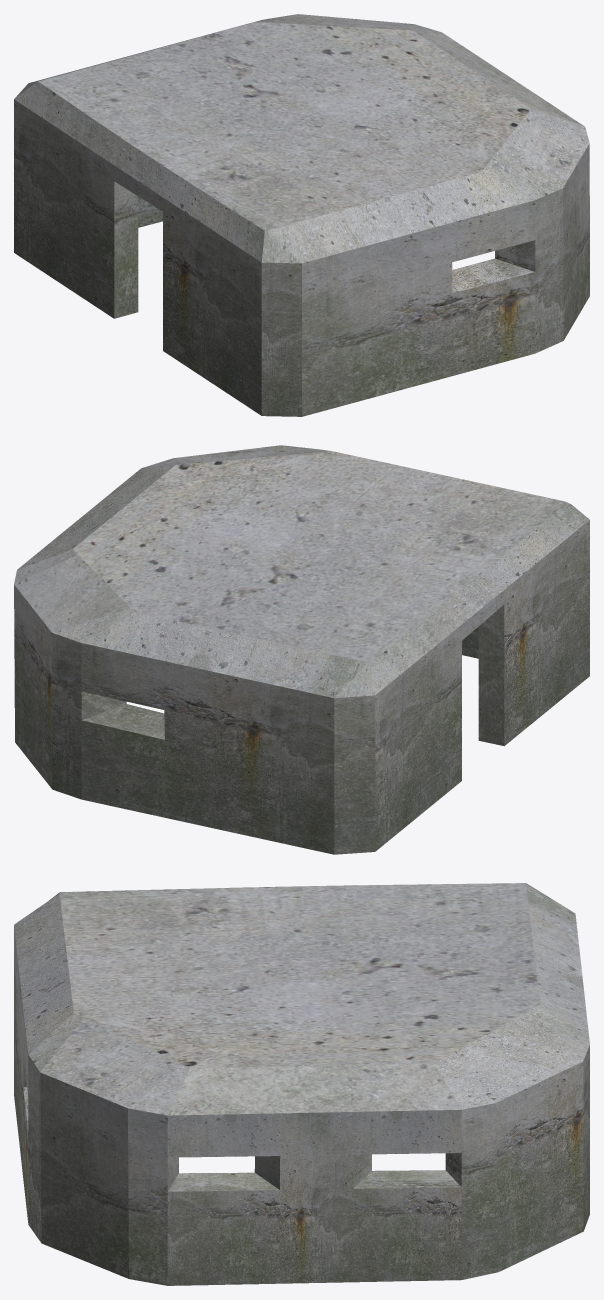
The model's file is Bunker txtr.fbx.
3 views of the same model, one above another, from view 1: azimuth 30°, elevation 25°; view 2: azimuth 150°, elevation 25°; view 3: azimuth 270°, elevation 25° (orthographic). The views are drawn at different scales.
Parts seen in each view (by area): view 1: Plane; view 2: Plane; view 3: Plane.
Part boxes in pixels (x1,y1,x2,y2): Plane: [14, 14, 589, 416]; Plane: [14, 445, 589, 854]; Plane: [14, 883, 589, 1285].
Size of the model in its own units: 332 by 139 by 373.
